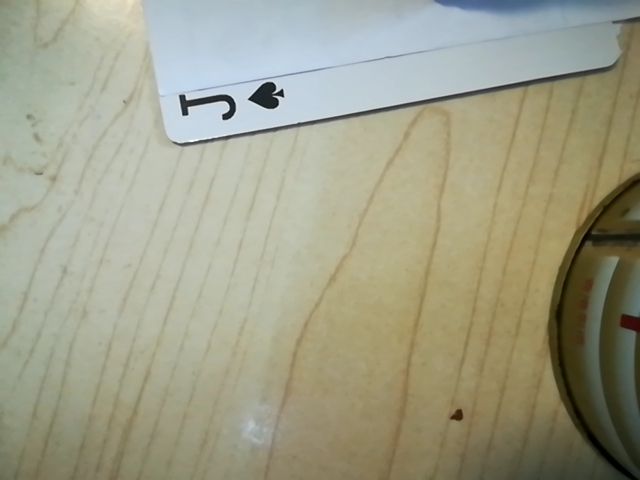ht j: (168, 72, 295, 139)
